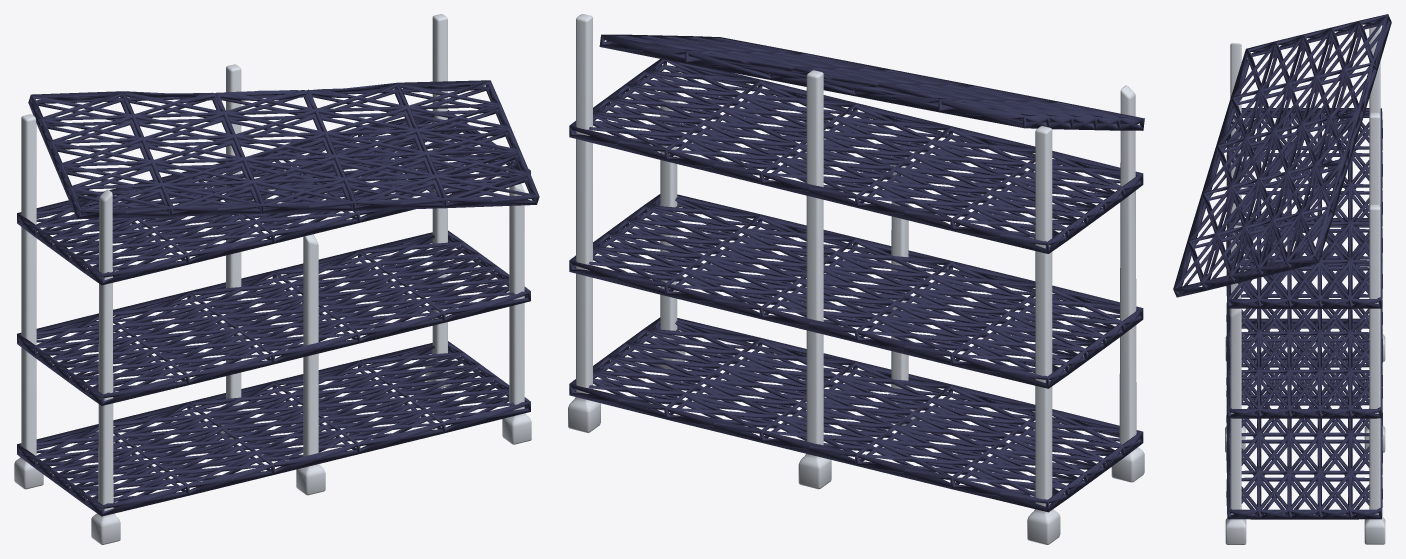
Rendered from broken metallshelf.fbx.
3 views of the same model, side by side, from view 1: azimuth 30°, elevation 25°; view 2: azimuth 150°, elevation 25°; view 3: azimuth 270°, elevation 25° (orthographic). The views are drawn at different scales.
Visible parts, largest first — view 1: metallshelf broken; view 2: metallshelf broken; view 3: metallshelf broken.
Part boxes in pixels (left/top/right/bottom): metallshelf broken: left=14, top=14, right=539, bottom=544; metallshelf broken: left=568, top=14, right=1144, bottom=544; metallshelf broken: left=1173, top=14, right=1391, bottom=544.
Size of the model in its own units: 426 by 346 by 197.
